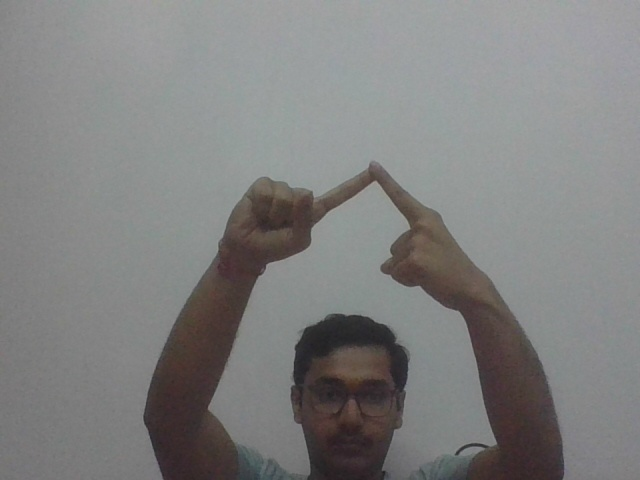E: (241, 155, 486, 301)
